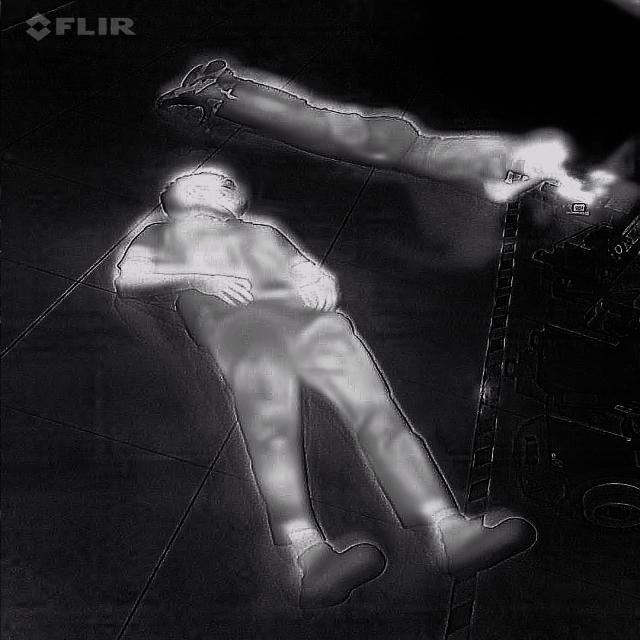Victim: (94, 167, 541, 615), (145, 46, 586, 207)
